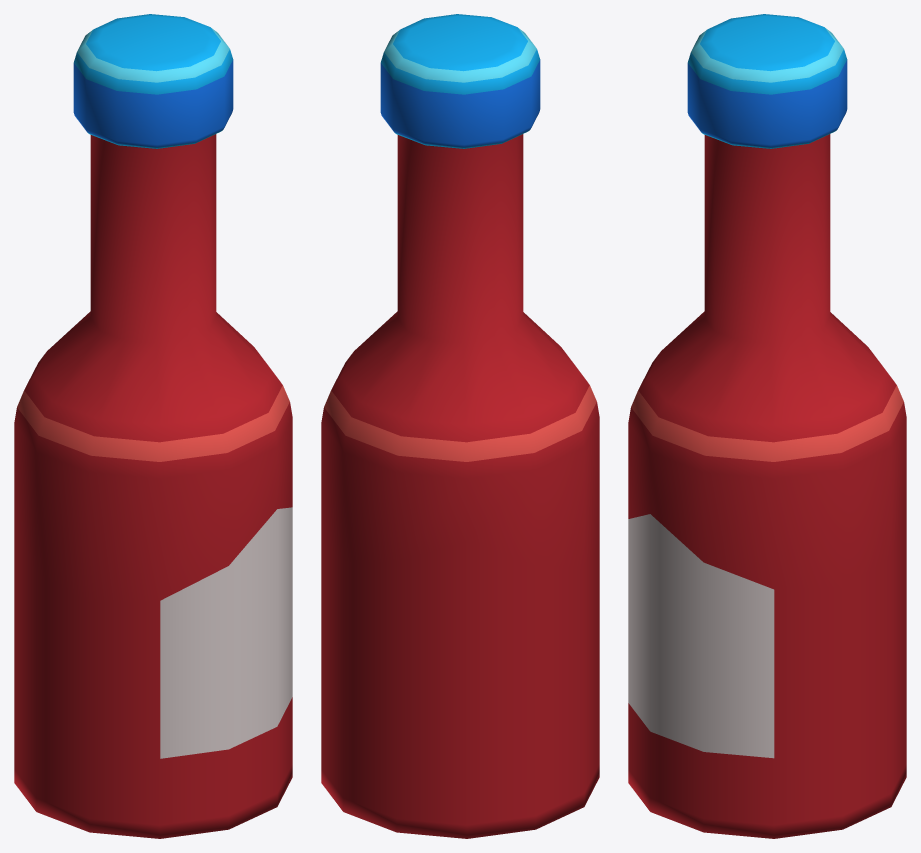
The model's file is KetchupBottle.fbx.
3 renders of one model, left to right at view 1: azimuth 30°, elevation 25°; view 2: azimuth 150°, elevation 25°; view 3: azimuth 270°, elevation 25°, orthographic.
Visible parts, largest first — view 1: KetchupBottle; view 2: KetchupBottle; view 3: KetchupBottle.
Part boxes in pixels (bbox=[...]): KetchupBottle: bbox=[14, 14, 292, 838]; KetchupBottle: bbox=[321, 14, 599, 838]; KetchupBottle: bbox=[628, 14, 906, 838].
Bounding box in the file's own units: 28.16 × 82.66 × 28.16.
